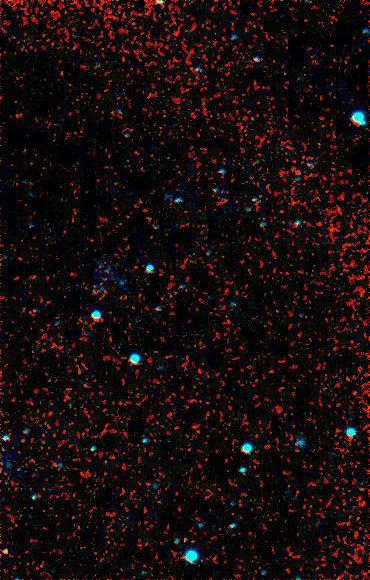star: (0, 542, 19, 572)
